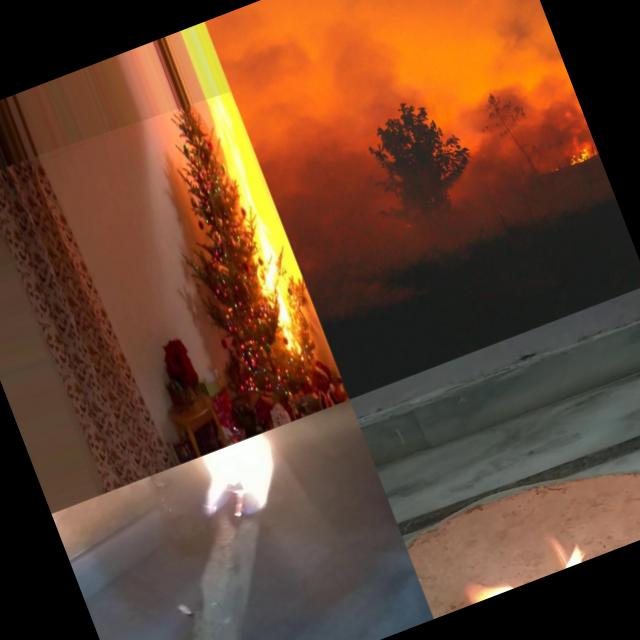fire: (194, 96, 318, 362), (452, 481, 640, 606), (170, 426, 309, 538), (564, 140, 600, 170)
smoke: (208, 0, 380, 224), (434, 0, 594, 182)
